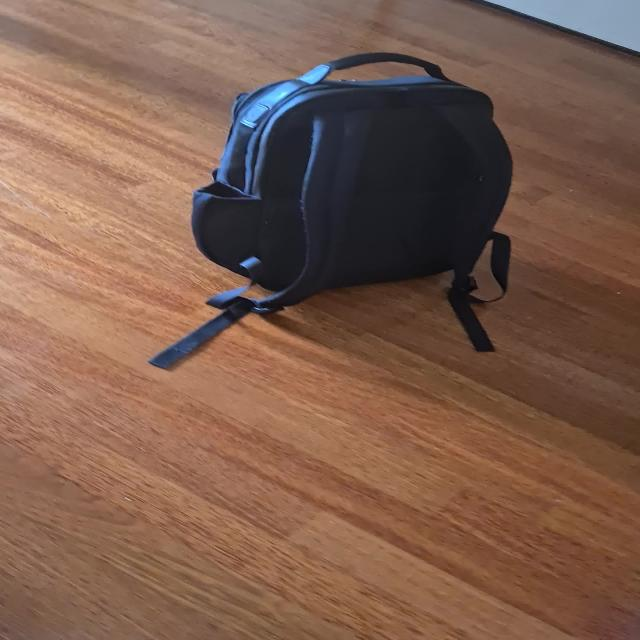backpack: (178, 42, 528, 310)
